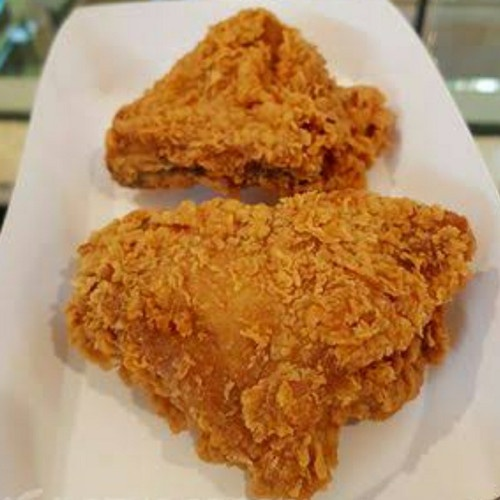ayam_goreng: (42, 177, 483, 500), (89, 1, 422, 197)
